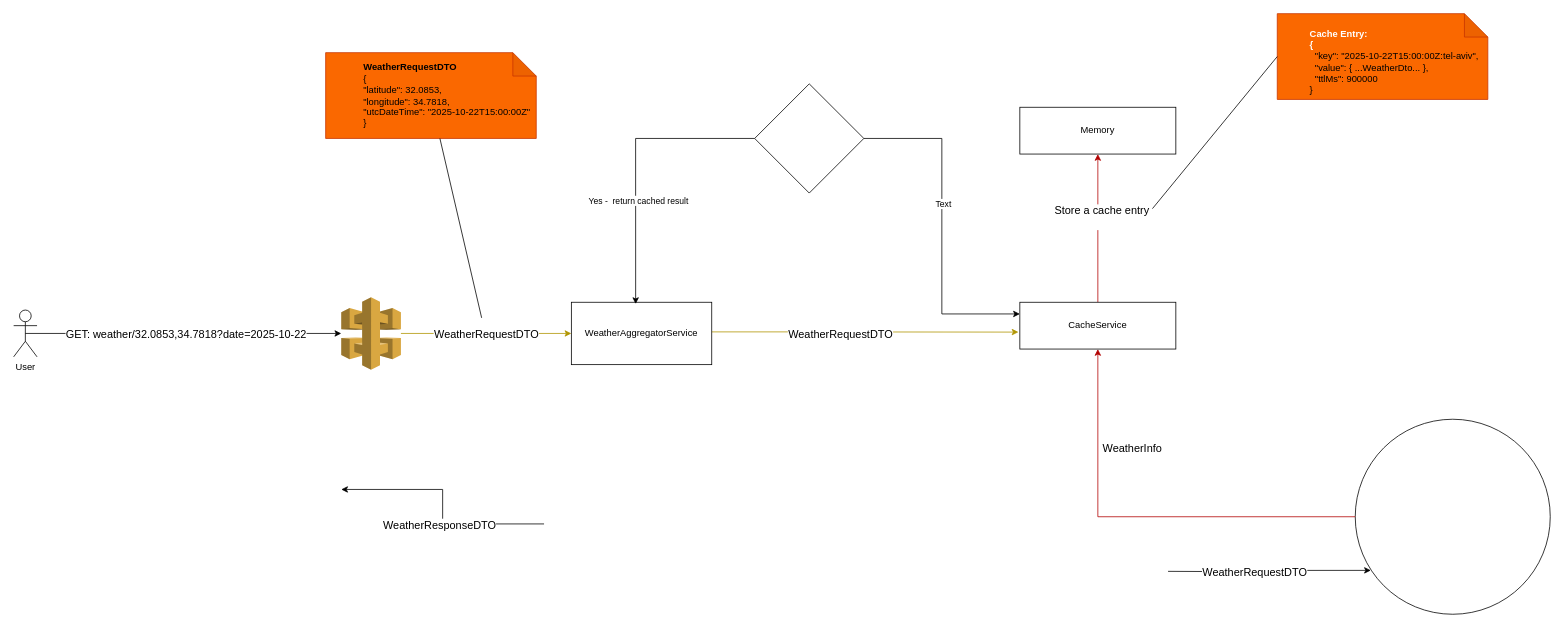
Some shapes in this 1564 by 628 pixel diagram are drawn without their labels. Each missing label, with the centre of its shape:
"API Gateway" goes at (x=370, y=333).
"High-traffic service" goes at (x=1452, y=516).
"If hit and not expired" goes at (x=809, y=138).
